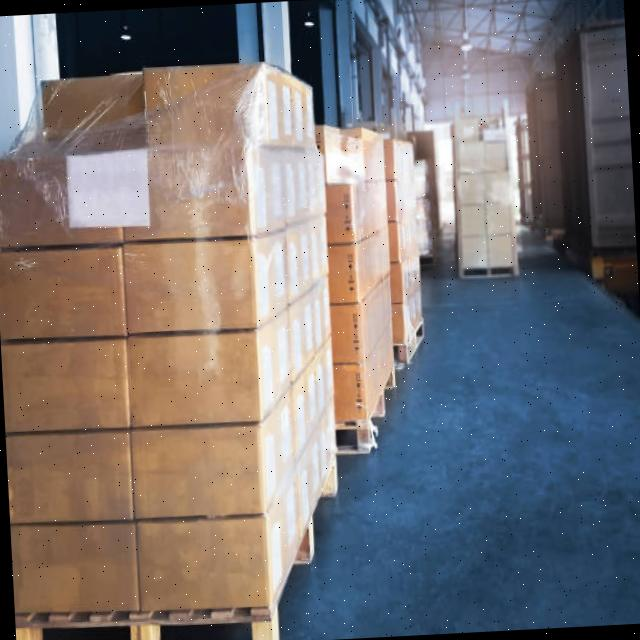Wooden-Pallets: (18, 439, 344, 640), (360, 329, 406, 466), (452, 255, 523, 288)
